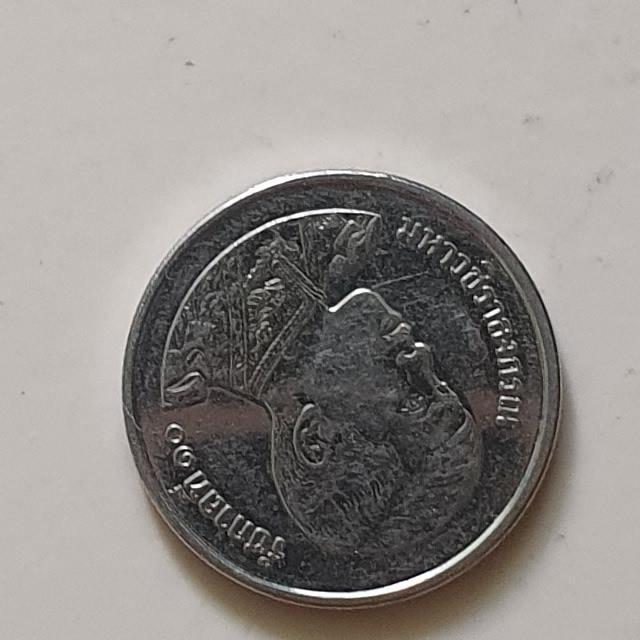1 Bath: (113, 160, 571, 620)
